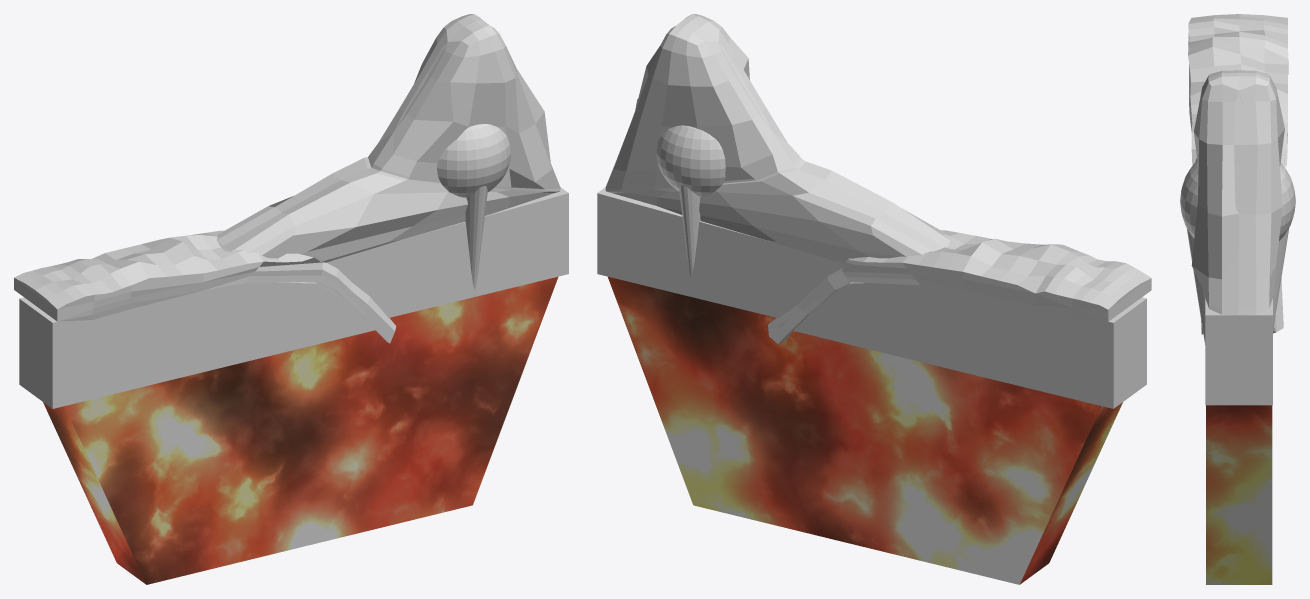
Rendered from FelsenmeAR.glb.
The picture shows the model from 3 angles, left to right: view 1: azimuth 30°, elevation 25°; view 2: azimuth 150°, elevation 25°; view 3: azimuth 270°, elevation 25°; orthographic projection. The views are drawn at different scales.
Visible parts, largest first — view 1: Magma2, CapaSuperiorA, CapaInferiorB, CapaInferiorA, CapaSuperiorB, Sphere, Cylinder; view 2: Magma2, CapaSuperiorA, CapaInferiorB, CapaSuperiorB, CapaInferiorA, Sphere, Cylinder; view 3: CapaSuperiorA, Magma2, CapaInferiorA, CapaSuperiorB, Sphere, Cylinder.
Part boxes in pixels (x1=…): Magma2: x1=43, y1=276, x2=558, y2=584; CapaSuperiorA: x1=216, y1=14, x2=560, y2=262; CapaInferiorB: x1=19, y1=282, x2=375, y2=408; CapaInferiorA: x1=14, y1=230, x2=396, y2=343; CapaSuperiorB: x1=306, y1=187, x2=568, y2=317; Sphere: x1=437, y1=124, x2=510, y2=197; Cylinder: x1=465, y1=186, x2=487, y2=289; Magma2: x1=608, y1=276, x2=1122, y2=584; CapaSuperiorA: x1=605, y1=14, x2=950, y2=265; CapaInferiorB: x1=778, y1=282, x2=1146, y2=408; CapaSuperiorB: x1=597, y1=187, x2=850, y2=318; CapaInferiorA: x1=768, y1=230, x2=1151, y2=343; Sphere: x1=656, y1=125, x2=725, y2=196; Cylinder: x1=679, y1=185, x2=700, y2=276; CapaSuperiorA: x1=1191, y1=70, x2=1284, y2=315; Magma2: x1=1206, y1=405, x2=1272, y2=584; CapaInferiorA: x1=1188, y1=14, x2=1288, y2=334; CapaSuperiorB: x1=1205, y1=298, x2=1272, y2=405; Sphere: x1=1180, y1=161, x2=1295, y2=240; Cylinder: x1=1186, y1=228, x2=1289, y2=344.
Size of the model in its own units: 4.67 by 4.04 by 0.8123.
Materials: 1 (1 with a texture image).
